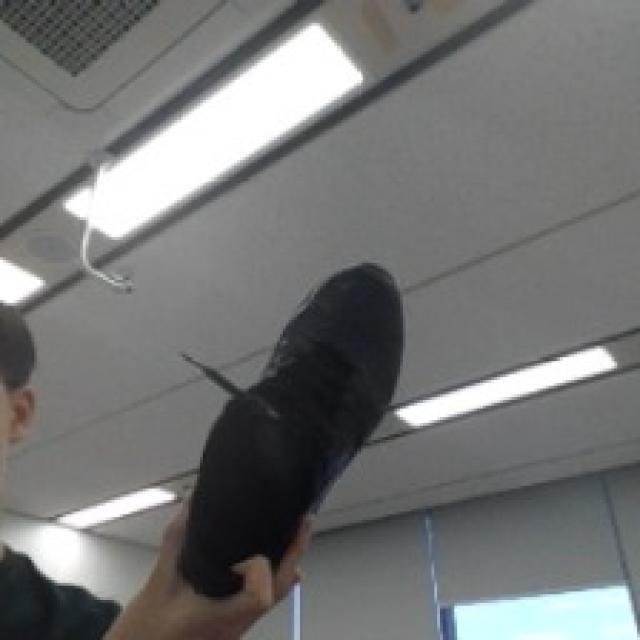shoe: (178, 260, 407, 610)
